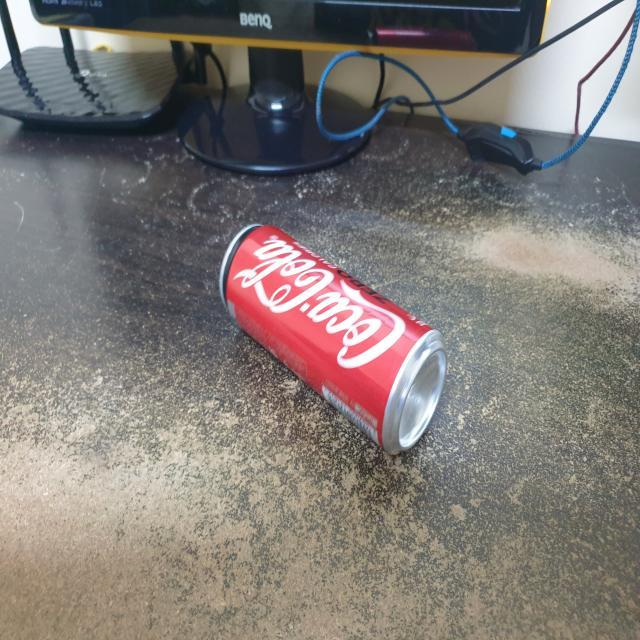can: (215, 214, 455, 473)
